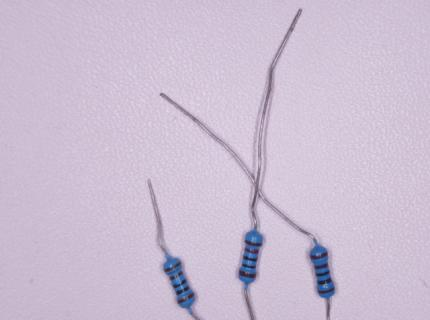Black band: (176, 285, 190, 296), (173, 279, 187, 289), (317, 277, 332, 285), (316, 271, 330, 276)
Brown band: (177, 292, 195, 304), (163, 261, 182, 272), (317, 286, 335, 294), (310, 252, 328, 260), (170, 271, 183, 281), (314, 262, 328, 269)
